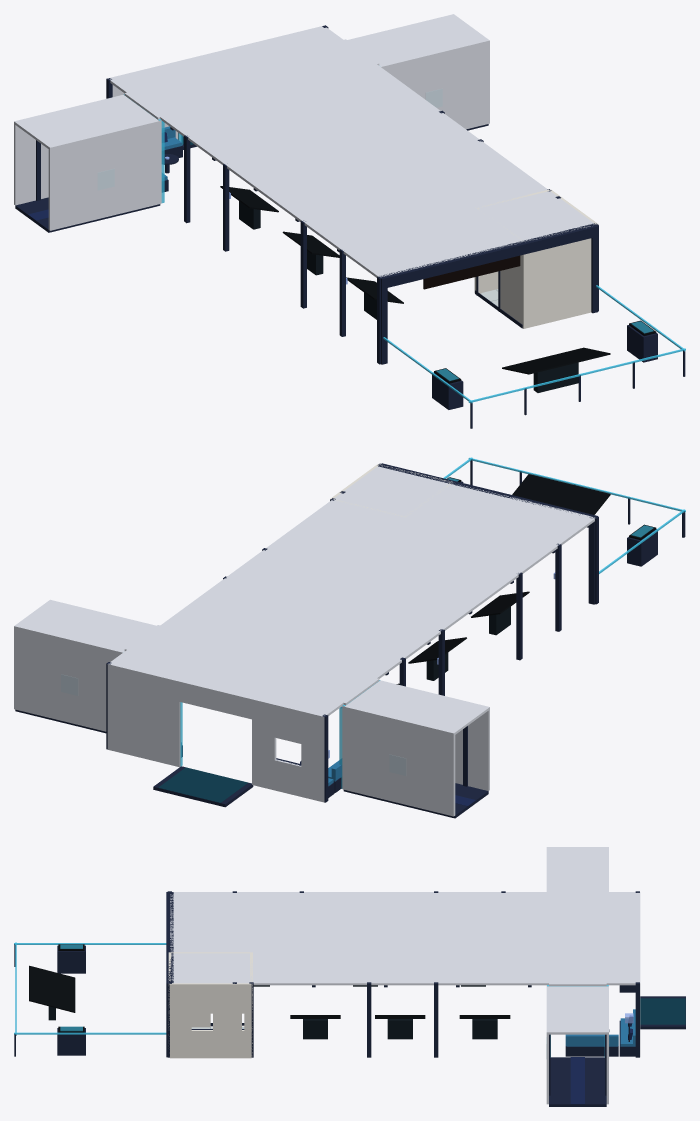
File: skyfleet_bake_07.glb
3 renders of one model, top to bottom at view 1: azimuth 30°, elevation 25°; view 2: azimuth 150°, elevation 25°; view 3: azimuth 270°, elevation 25°, orthographic. The views are drawn at different scales.
Visible parts, largest first — view 1: baked; view 2: baked; view 3: baked.
Boxes of the visible parts, x1,y1,x2,y2 form: baked: [14, 14, 685, 428]; baked: [14, 457, 685, 818]; baked: [14, 847, 685, 1106].
Size of the model in its own units: 18.28 by 3.52 by 28.01.
